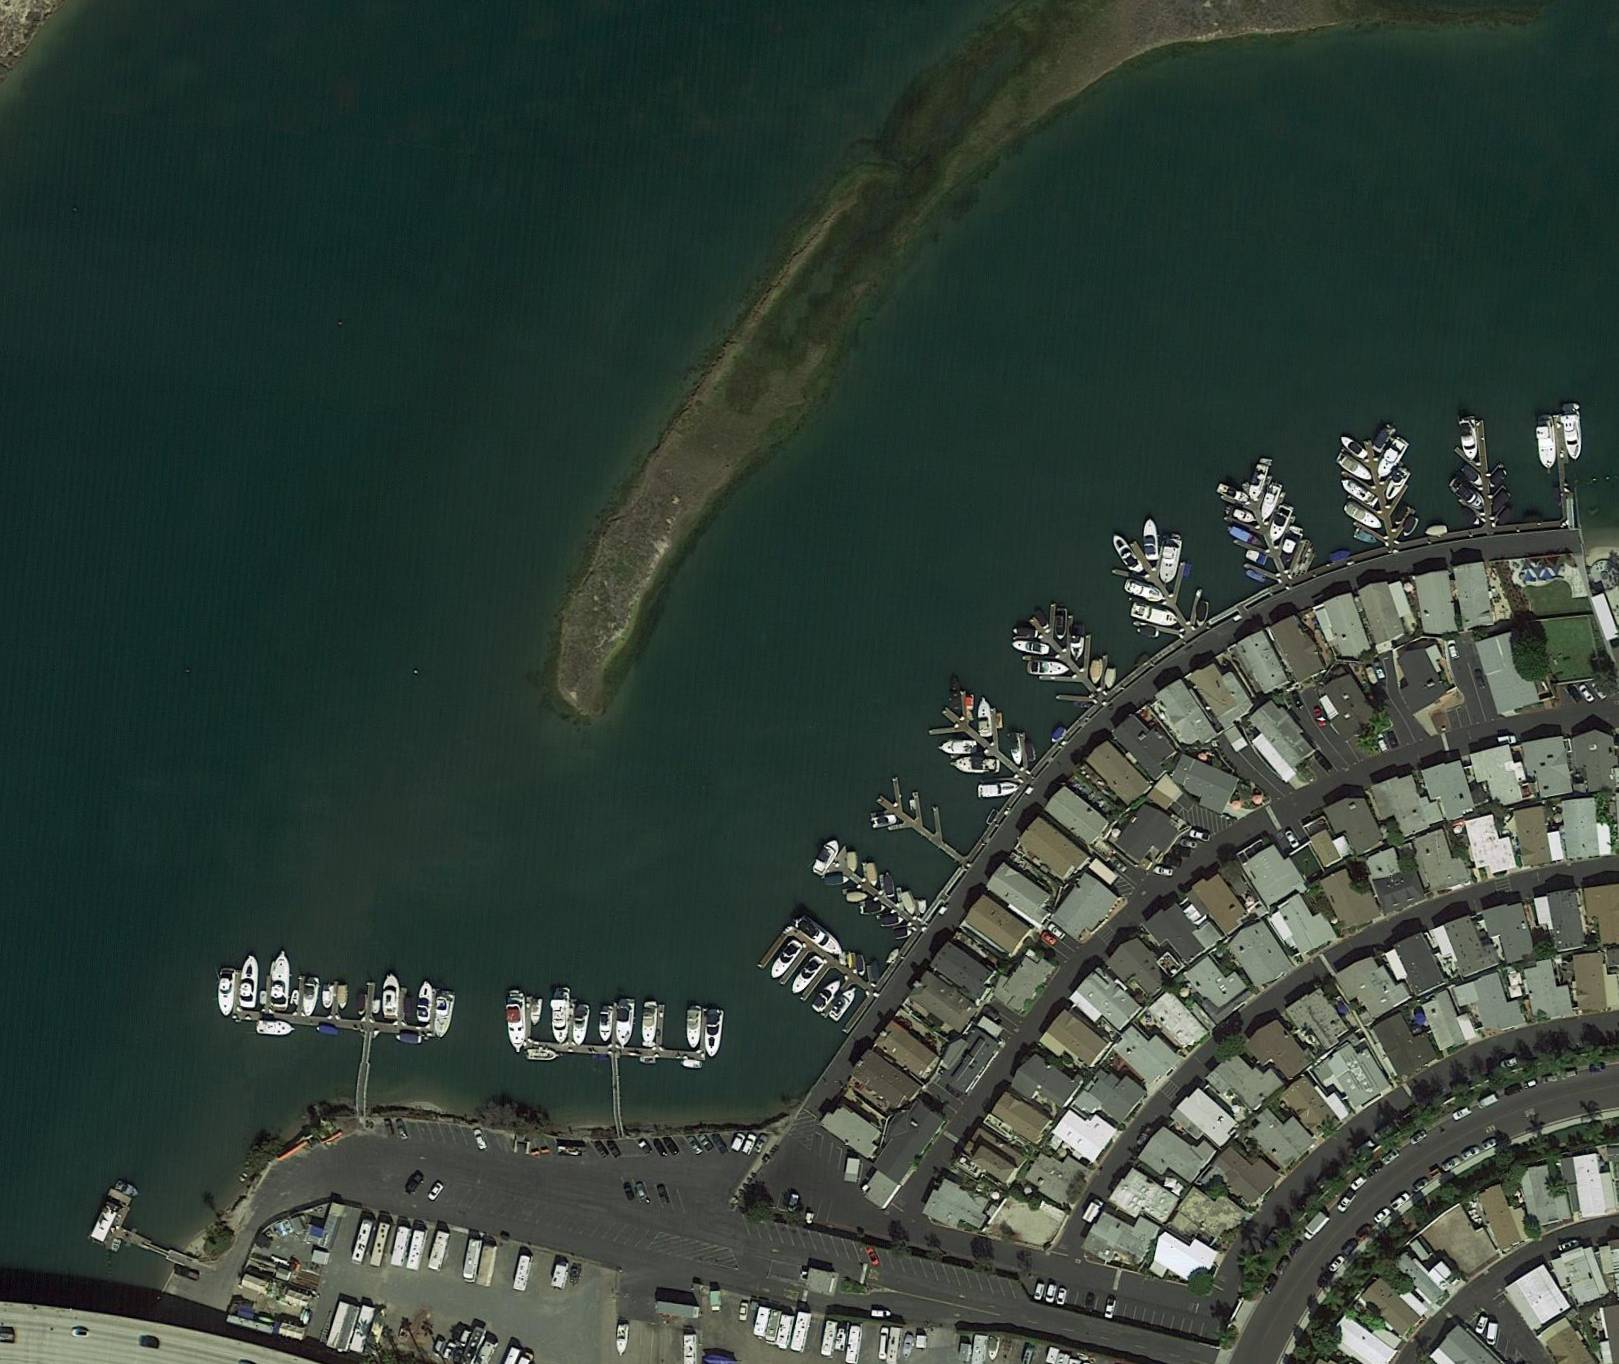harbor: (1104, 520, 1215, 650), (233, 972, 440, 1037), (1010, 601, 1120, 721), (756, 924, 876, 1032), (928, 689, 1041, 801), (522, 997, 710, 1062), (866, 775, 978, 880), (1219, 474, 1316, 590), (820, 844, 931, 943), (89, 1189, 196, 1281), (1336, 434, 1417, 548), (1450, 422, 1509, 524), (1551, 415, 1574, 520)
ship: (794, 913, 848, 961), (766, 938, 805, 982), (789, 954, 826, 999), (1109, 532, 1146, 576), (1342, 498, 1386, 535), (1129, 599, 1181, 631), (1447, 476, 1489, 514), (1376, 437, 1409, 480), (1156, 535, 1185, 586), (269, 950, 294, 1009), (506, 991, 527, 1055), (1561, 405, 1585, 461), (810, 976, 844, 1016), (1123, 576, 1169, 606), (430, 991, 457, 1041), (550, 986, 573, 1045), (1336, 451, 1376, 484), (826, 984, 860, 1023), (1340, 476, 1381, 509), (812, 838, 844, 877), (1266, 503, 1294, 545), (239, 955, 261, 1009), (1536, 415, 1558, 470), (1257, 482, 1284, 522), (1382, 467, 1412, 503), (216, 968, 237, 1018), (615, 999, 636, 1047), (1229, 525, 1267, 551), (705, 1009, 724, 1060), (1247, 463, 1270, 503), (951, 756, 1000, 775), (1338, 434, 1369, 461), (1142, 518, 1160, 562), (1216, 483, 1252, 505), (1461, 417, 1478, 461), (1223, 503, 1257, 526), (383, 976, 400, 1019), (1027, 660, 1073, 677), (642, 1001, 659, 1047), (302, 978, 321, 1018), (417, 980, 434, 1022), (256, 1019, 296, 1037), (1012, 639, 1051, 656), (981, 782, 1023, 798), (572, 1004, 588, 1046), (977, 697, 993, 737), (1070, 624, 1087, 660), (1008, 732, 1024, 769), (939, 740, 978, 755), (687, 1009, 702, 1047), (599, 1008, 614, 1043), (899, 890, 918, 917), (1054, 608, 1069, 641), (527, 1047, 561, 1062), (871, 813, 899, 829), (395, 1032, 423, 1046), (824, 874, 852, 888), (860, 903, 889, 916), (1330, 548, 1353, 564), (879, 915, 906, 928), (866, 863, 881, 888), (530, 999, 542, 1027), (1090, 659, 1102, 686), (322, 985, 335, 1009), (883, 871, 895, 899), (337, 985, 349, 1011), (1426, 525, 1449, 537), (845, 892, 868, 903), (847, 852, 859, 873)
